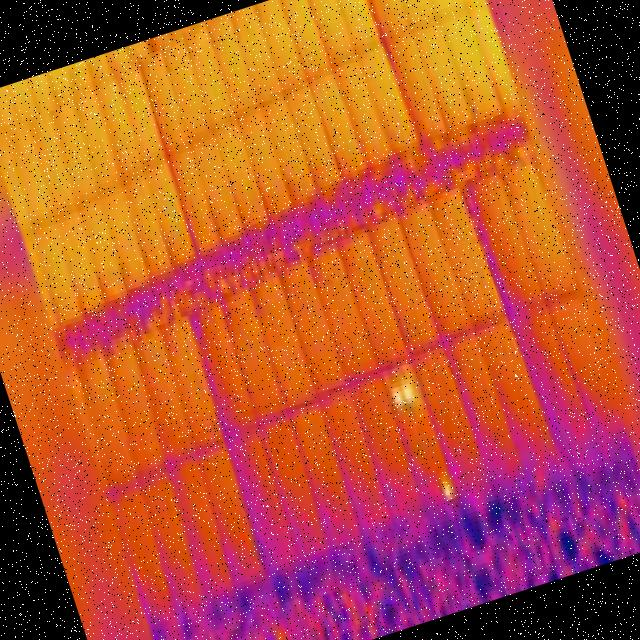Hotspot: (399, 379, 416, 404), (389, 387, 406, 412), (439, 476, 456, 500)
